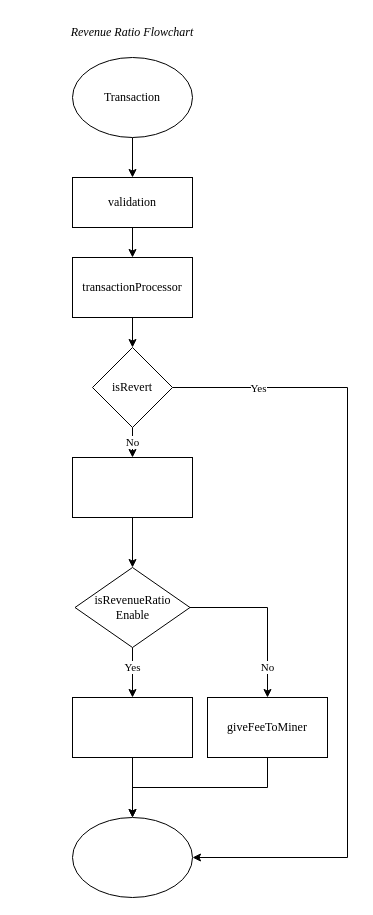
This 373x915 diagram has some shape labels left out. Here are the shapes that lost their labels. From the top down, the centre of each, then its label:
At point (132, 487): "transactionFeeCalculate".
At point (132, 727): "distributeFeeToEach Role".
At point (132, 857): "transaction WriteIntoBlock".
